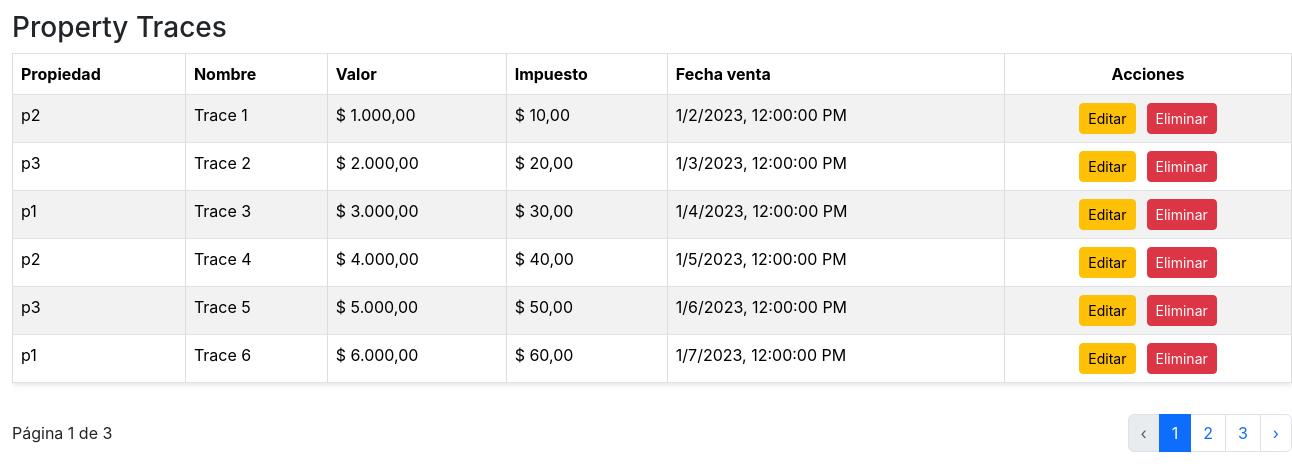
Scenario: PropertyTraceList › cambia a la página 2 al hacer click en el paginador
Click the button "2" at (1208, 433), box [1190,414,1226,452]
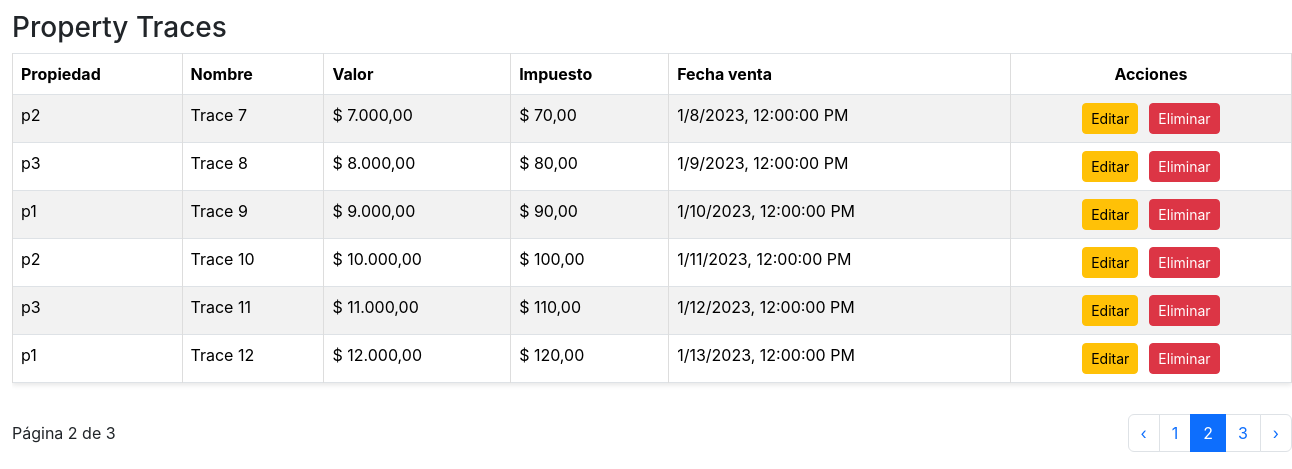
Result: the text "Página 2 de 3" is shown at [12,421,116,445]
Result: the text "Trace 7" is shown at [182,94,324,142]
Result: the text "Trace 12" is shown at [182,334,324,382]
